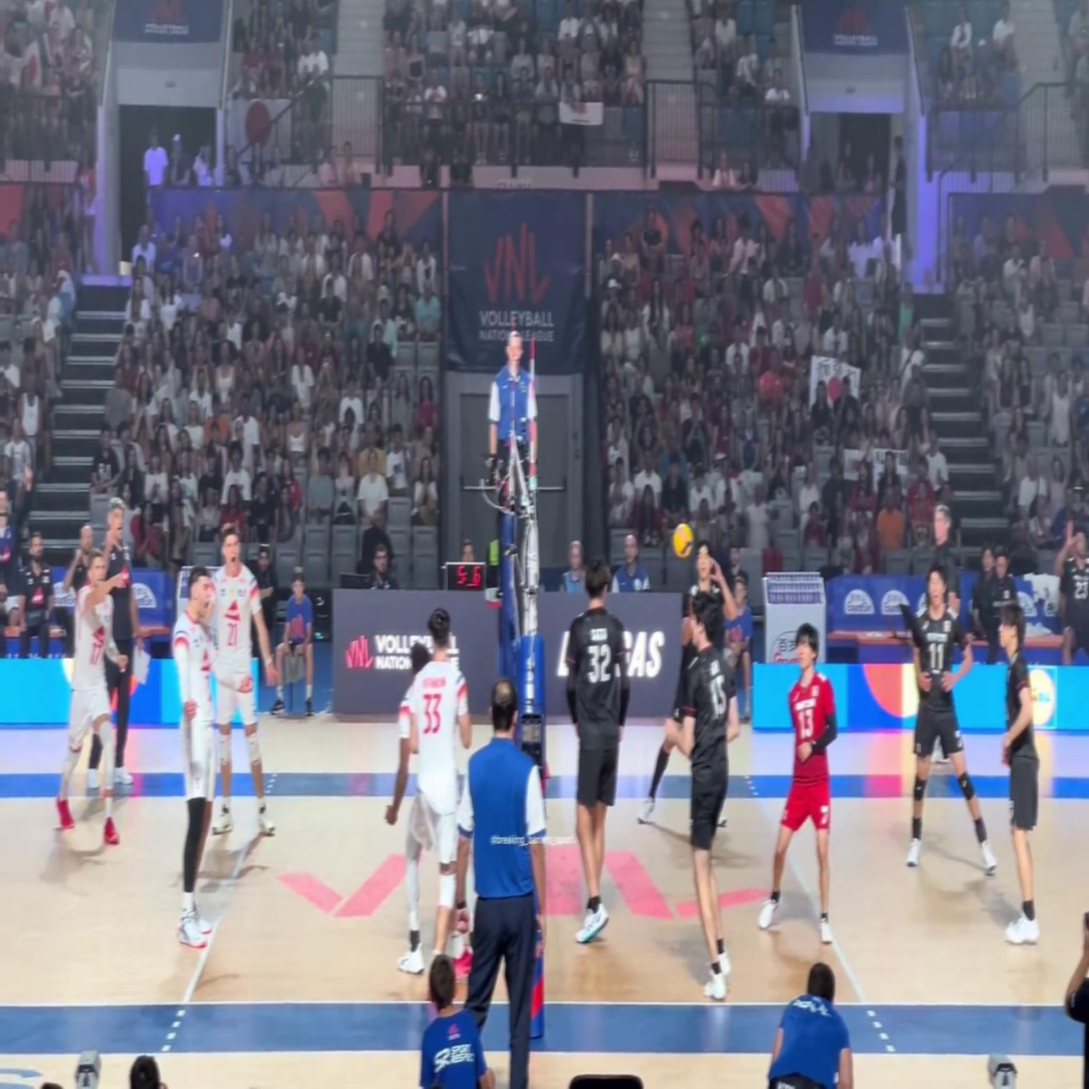ball: (672, 525, 691, 558)
